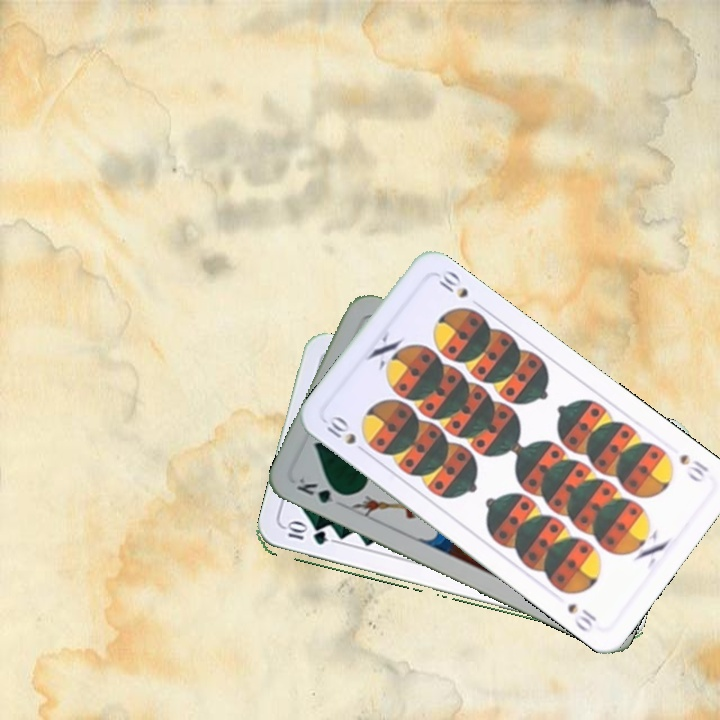G10: (281, 521, 330, 548)
GK: (292, 473, 350, 506)
S10: (321, 412, 359, 448), (675, 450, 712, 485)
